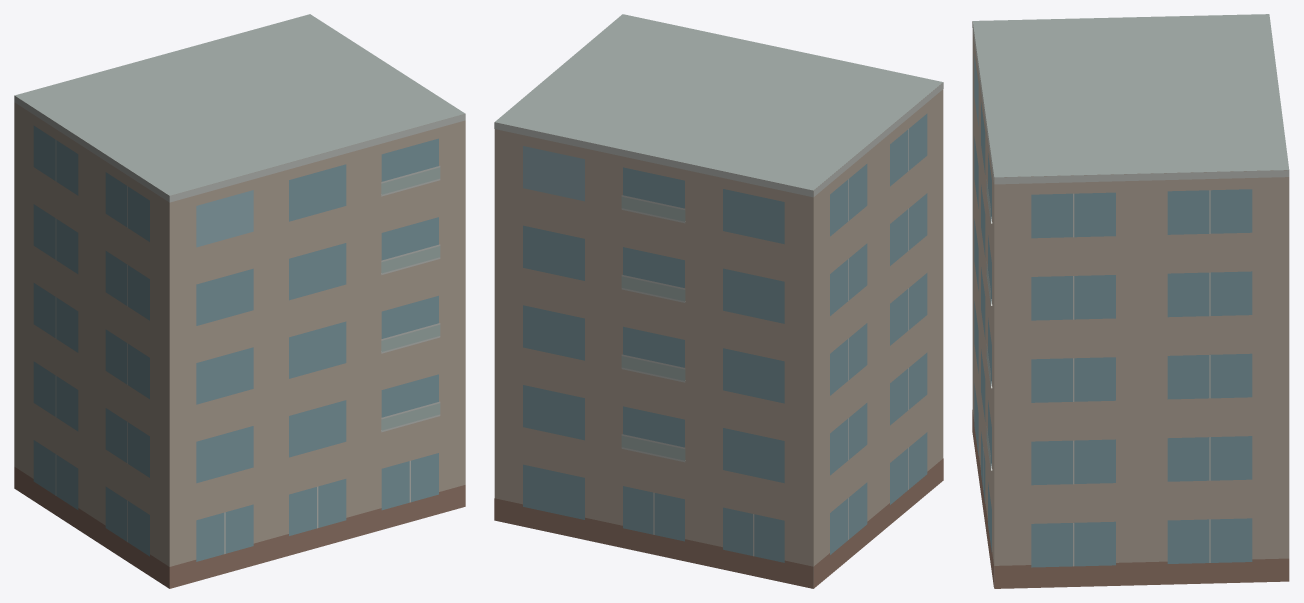
Rendered from survey-upis-32899591.glb.
3 renders of one model, left to right at view 1: azimuth 30°, elevation 25°; view 2: azimuth 150°, elevation 25°; view 3: azimuth 270°, elevation 25°, orthographic. The views are drawn at different scales.
Parts seen in each view (by area): view 1: survey-upis-32899591.tmp; view 2: survey-upis-32899591.tmp; view 3: survey-upis-32899591.tmp.
Boxes of the visible parts, bbox=[...] form: survey-upis-32899591.tmp: bbox=[14, 14, 465, 588]; survey-upis-32899591.tmp: bbox=[494, 14, 943, 588]; survey-upis-32899591.tmp: bbox=[972, 14, 1289, 588].
Bounding box in the file's own units: 12.1 × 14.2 × 9.91.
